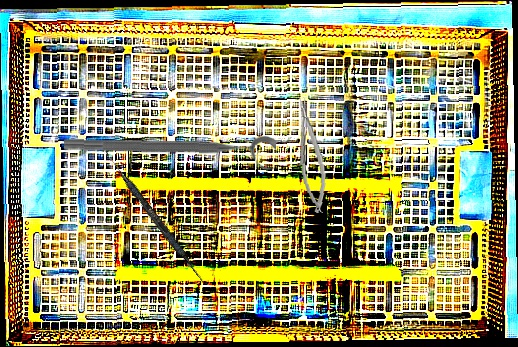Fixation Ring: (63, 132, 277, 172)
Needle Holder: (293, 95, 330, 215)
Spatula Surgical: (98, 146, 209, 285)
